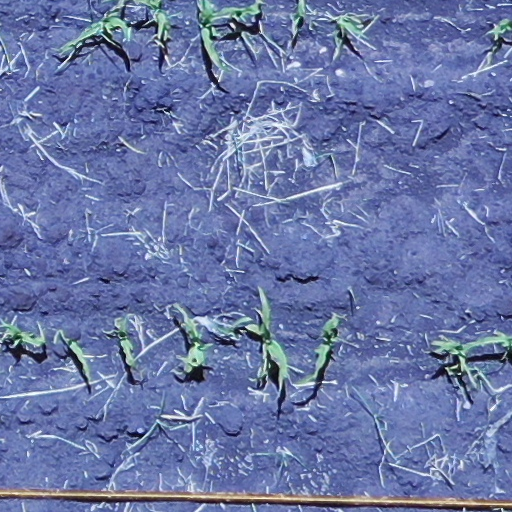planta: (246, 287, 288, 386), (55, 7, 133, 59), (294, 316, 339, 387), (430, 340, 479, 390), (54, 326, 92, 383), (183, 316, 211, 375), (117, 317, 138, 367), (204, 3, 262, 20), (334, 16, 366, 38)
